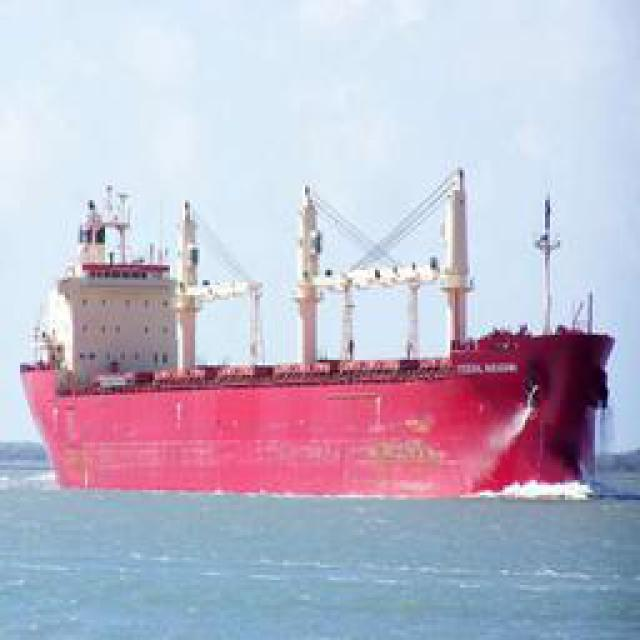Ship: (16, 167, 640, 500)
